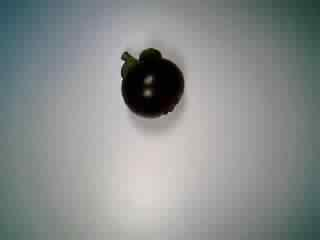mangosteen: (109, 43, 190, 128)
